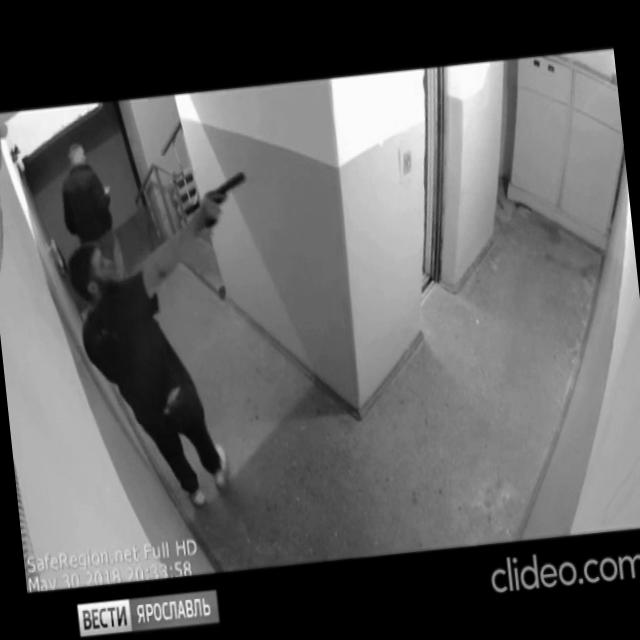gun: (196, 166, 254, 232)
person: (54, 134, 128, 302)
person with a gun: (55, 166, 282, 518)
